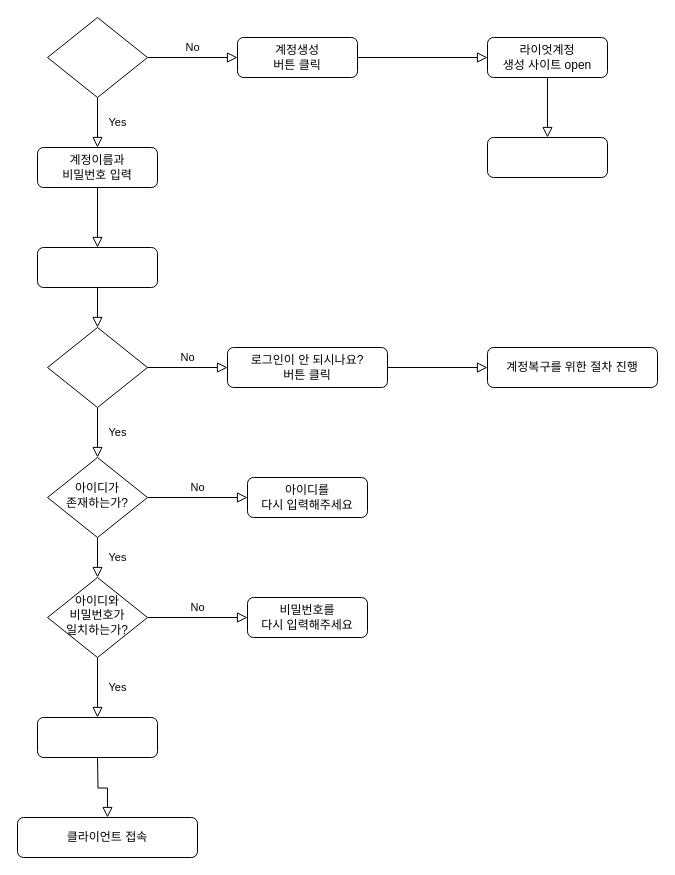
Some shapes in this 675 by 875 pixel diagram are drawn without their labels. Each missing label, with the box of its shape:
계정 존재여부: (46, 16, 148, 98)
로그인 버튼 클릭: (36, 246, 158, 288)
로그인 성공: (36, 716, 158, 758)
로그인이 되지않을때: (46, 326, 148, 408)
사이트 내의 가입진행: (486, 136, 608, 178)
